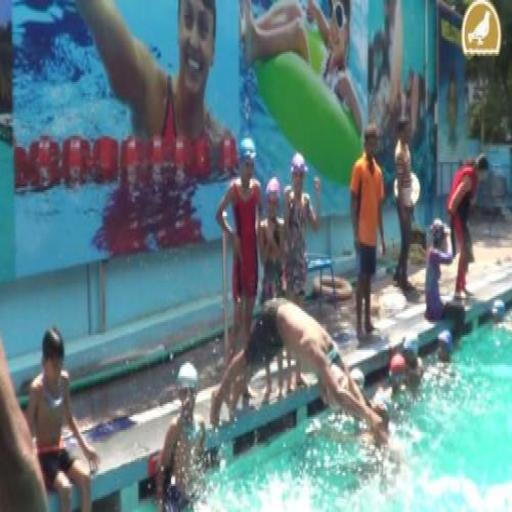swimming: (73, 0, 239, 182), (208, 294, 391, 453), (22, 324, 102, 510), (214, 134, 267, 367), (151, 358, 213, 510), (347, 121, 389, 344), (444, 149, 492, 305)
